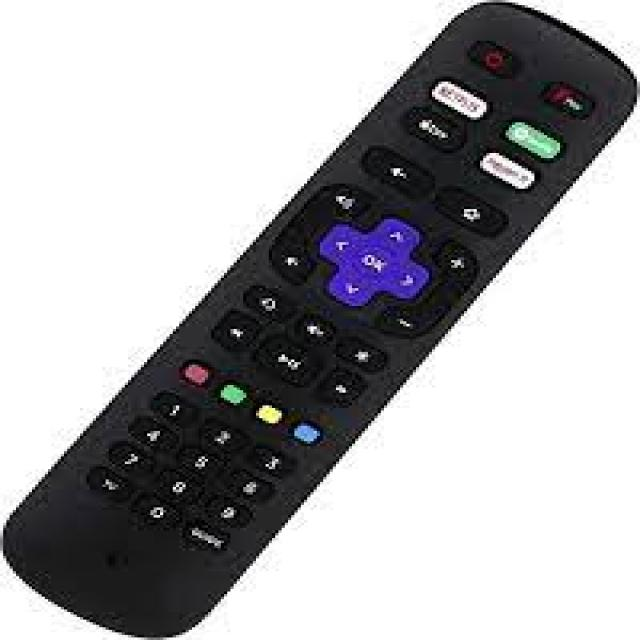remote: (0, 0, 640, 637)
